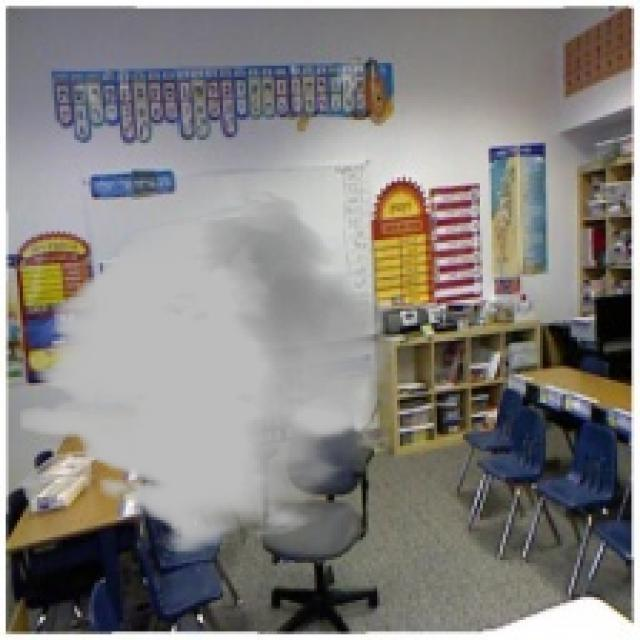Smoke: (19, 188, 394, 554)
